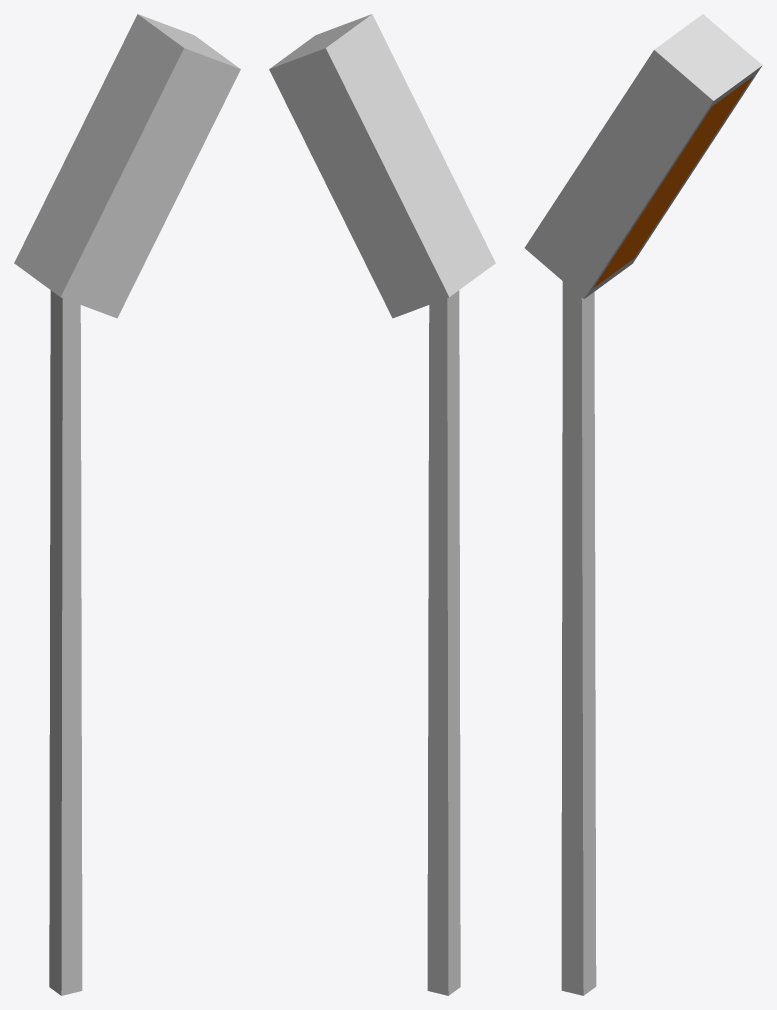
Rendered from streetlamp.obj.
3 views of the same model, side by side, from view 1: azimuth 30°, elevation 25°; view 2: azimuth 150°, elevation 25°; view 3: azimuth 330°, elevation 25° (orthographic). The views are drawn at different scales.
Parts seen in each view (by area): view 1: streetLamp; view 2: streetLamp; view 3: streetLamp.
Boxes of the visible parts, x1,y1,x2,y2 form: streetLamp: (14,14,240,995); streetLamp: (269,14,495,995); streetLamp: (524,14,762,995).
Size of the model in its own units: 1.51 by 7.5 by 0.6772.
